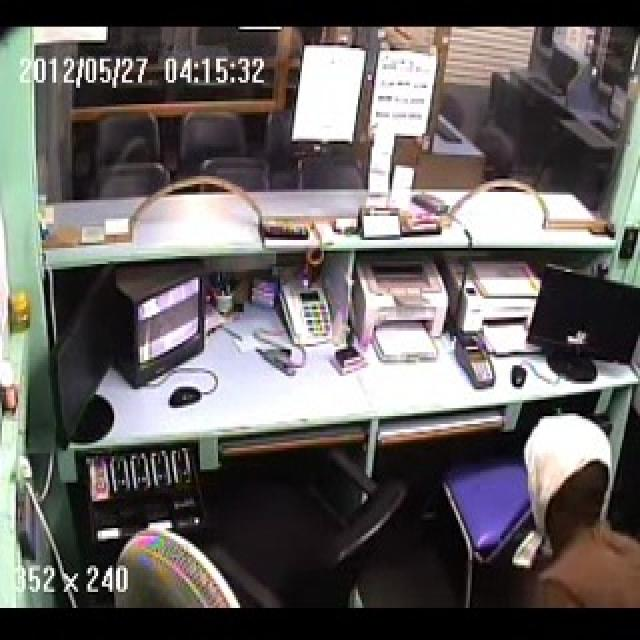thief: (493, 375, 638, 606)
